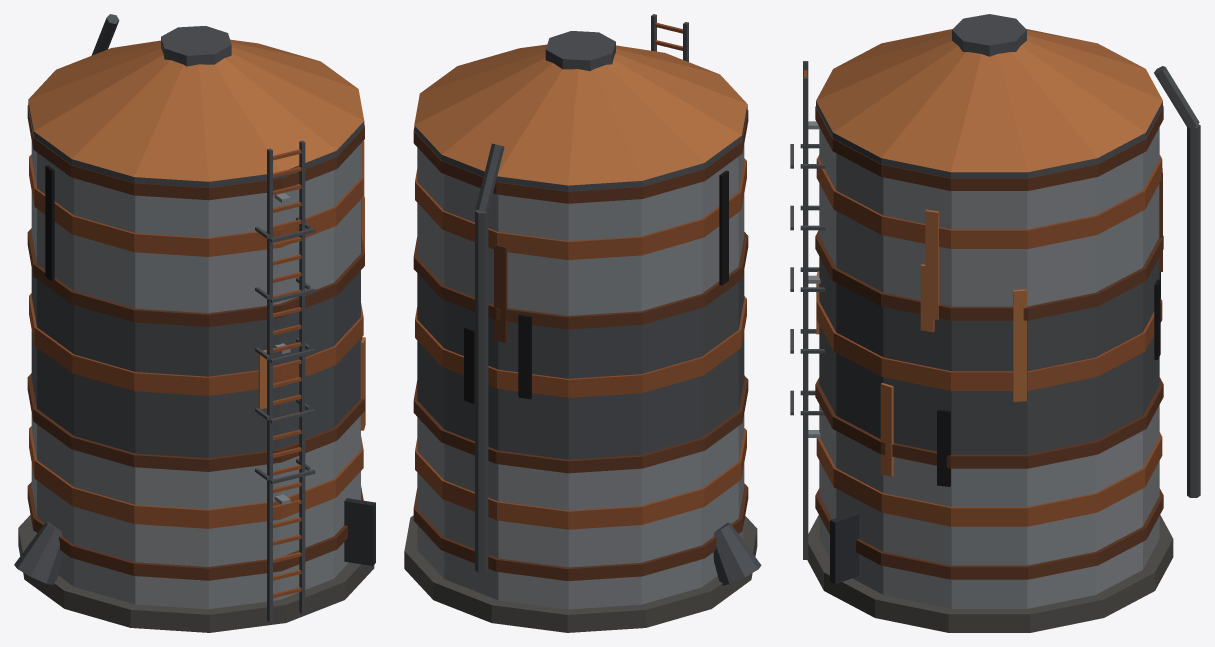
Rendered from lmk_farm_silo.fbx.
3 renders of one model, left to right at view 1: azimuth 30°, elevation 25°; view 2: azimuth 150°, elevation 25°; view 3: azimuth 270°, elevation 25°, orthographic. The views are drawn at different scales.
Parts seen in each view (by area): view 1: lmk_farm_silo; view 2: lmk_farm_silo; view 3: lmk_farm_silo.
Part boxes in pixels (bbox=[...]): lmk_farm_silo: bbox=[14, 14, 375, 632]; lmk_farm_silo: bbox=[404, 14, 761, 632]; lmk_farm_silo: bbox=[790, 14, 1200, 632].
Bounding box in the file's own units: 5.74 × 8.55 × 6.03.
